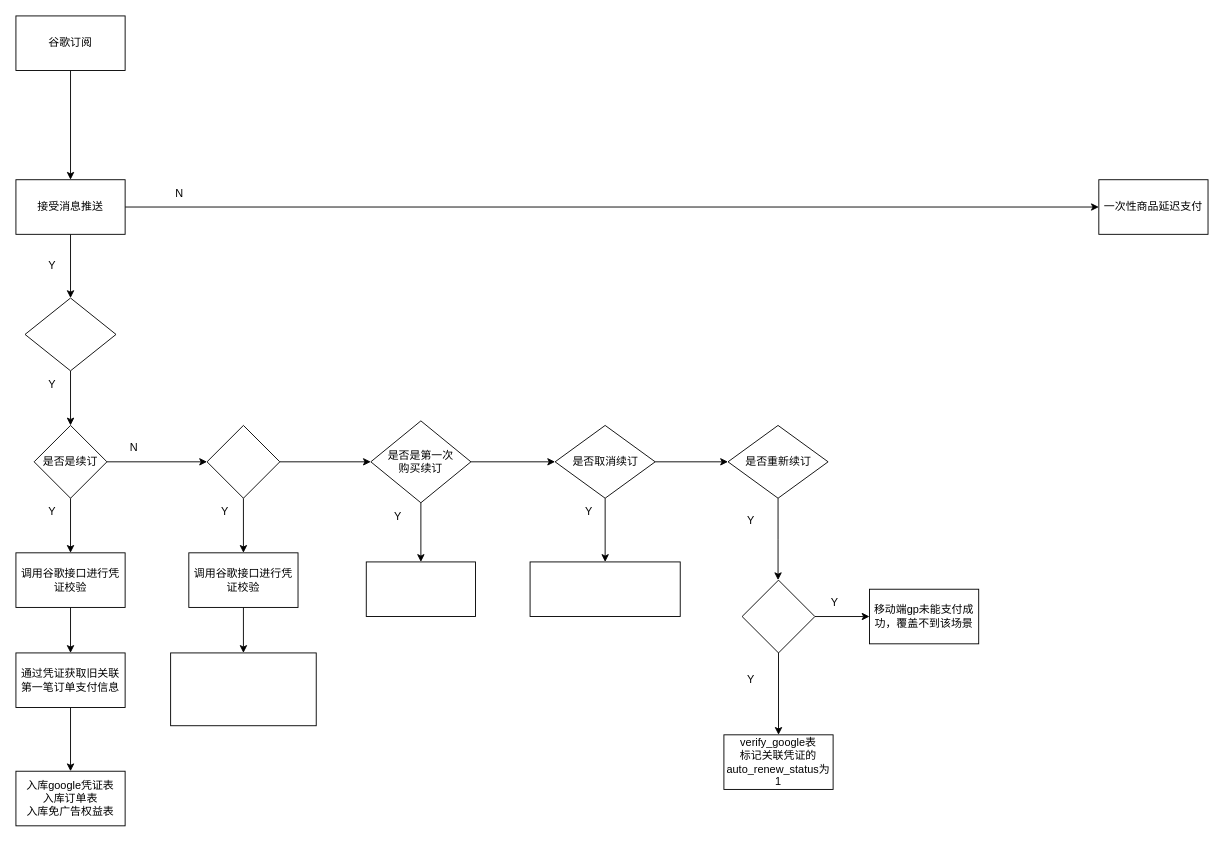
This 1224x842 diagram has some shape labels left out. The shapes that lost their labels are listed below. From the top down, each one's box as (x1, y1, x2, y2) in pixels, then its label:
(24, 297, 116, 371): 是否是订阅商品
(206, 425, 280, 498): 是否是退款
(365, 561, 475, 617): 因app也会上报， 忽略谷歌的推送
(529, 561, 680, 617): 通过推送消息的凭证， 找出verify_google表最近一 笔数据，标记为 auto_renew_status为0
(741, 579, 815, 653): 是否还未过期
(170, 652, 316, 726): 操作表：iap-order表 通过凭证把最近一笔 订单状态修改为退款 记录退款时间、地区、
